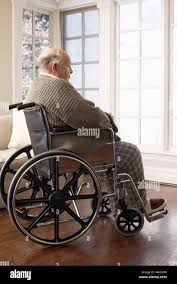wheelchair: (1, 47, 169, 246)
